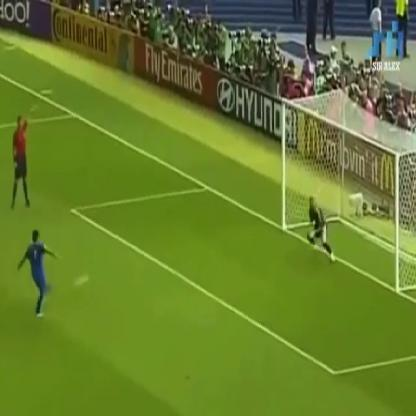penalty kick: (26, 195, 389, 321)
